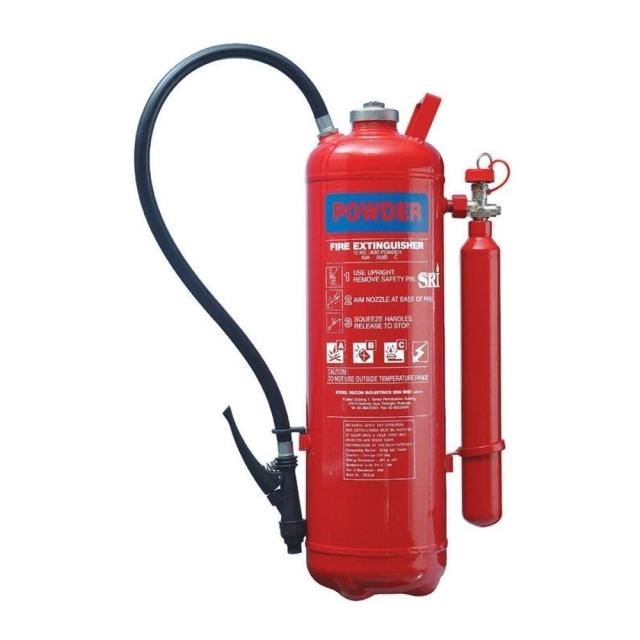fire_extinguisher: (129, 38, 514, 606)
